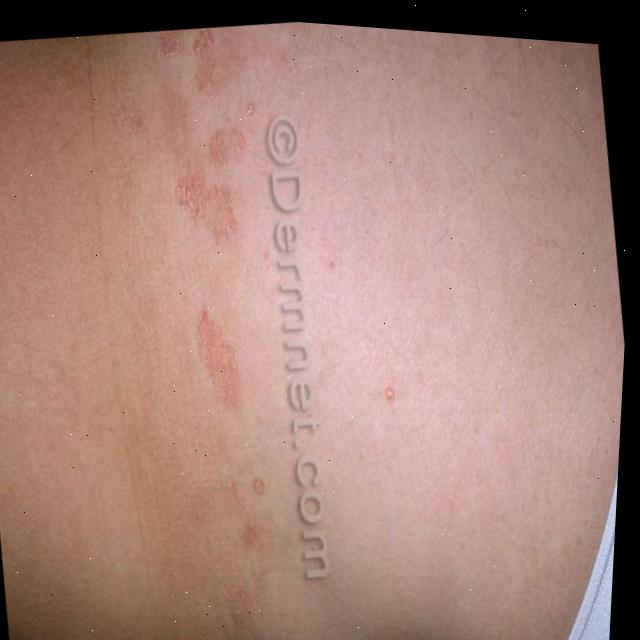Eczema: (130, 18, 299, 419)
